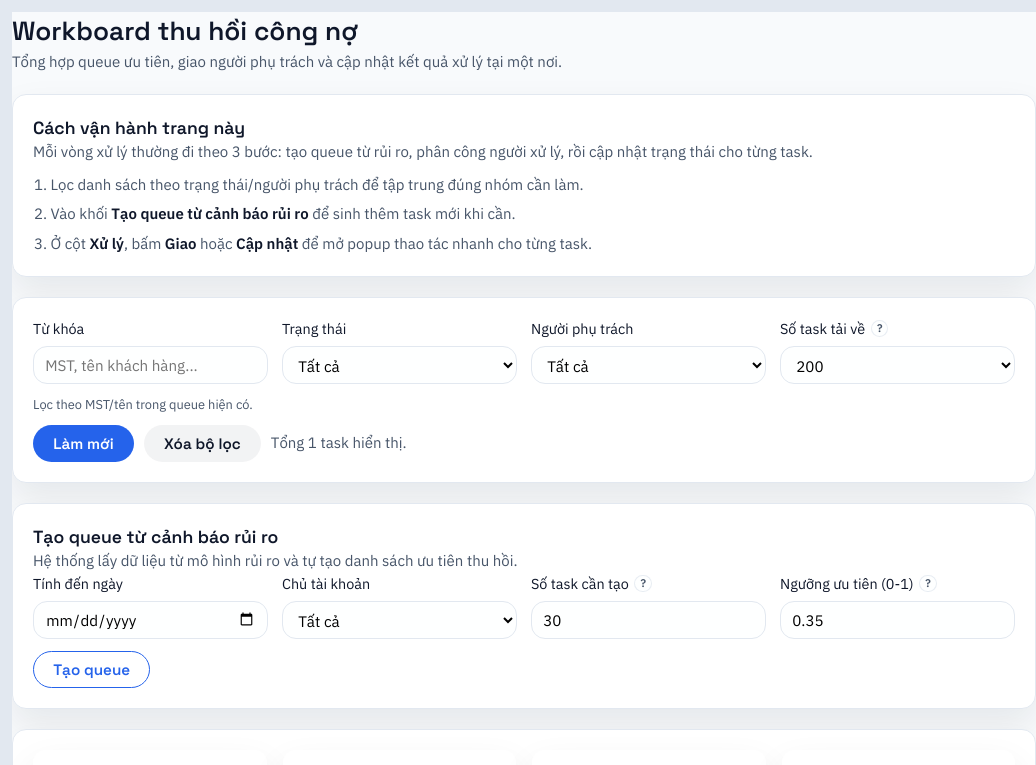
CollectionsPage › shows explanatory message when generate creates 0 tasks
Click the button "Tạo queue". click: (92, 669)
box: [33,651,150,688]
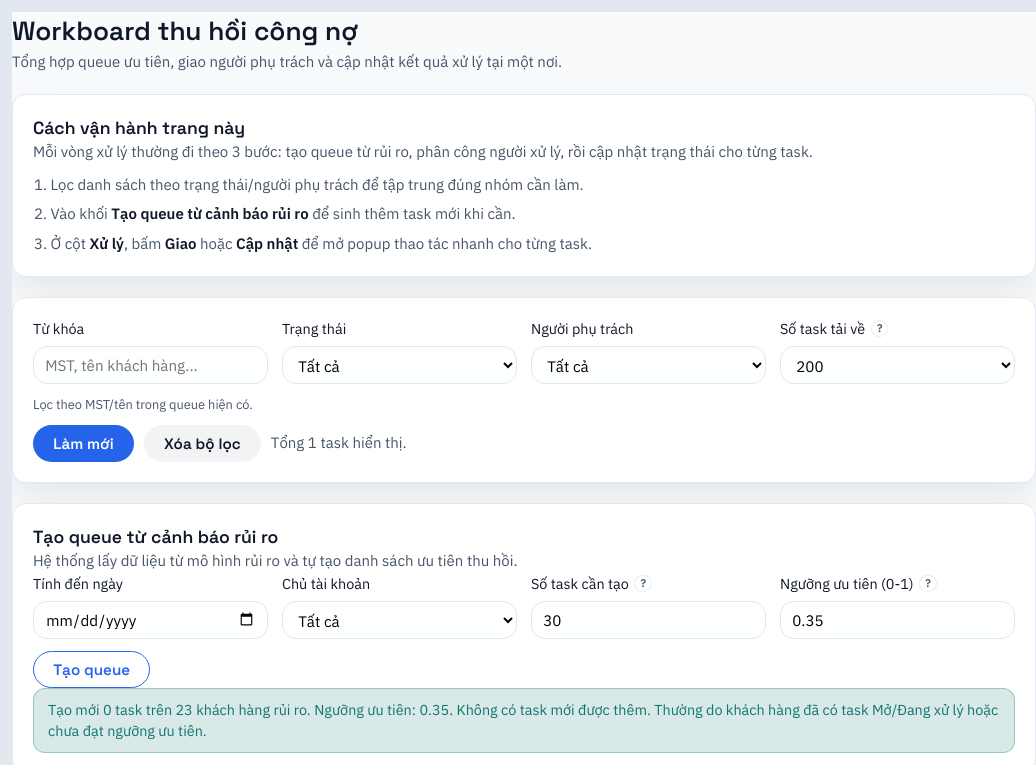
Check: the text "Không có task mới được thêm" is shown, box [48,700,998,740]
